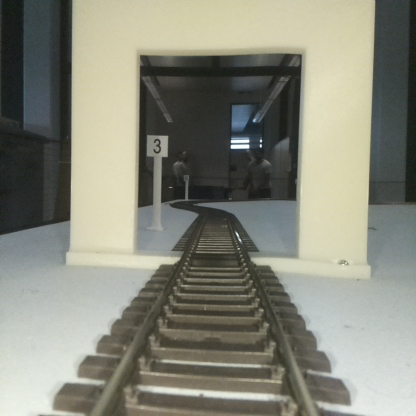white-info-3: (147, 135, 168, 230)
